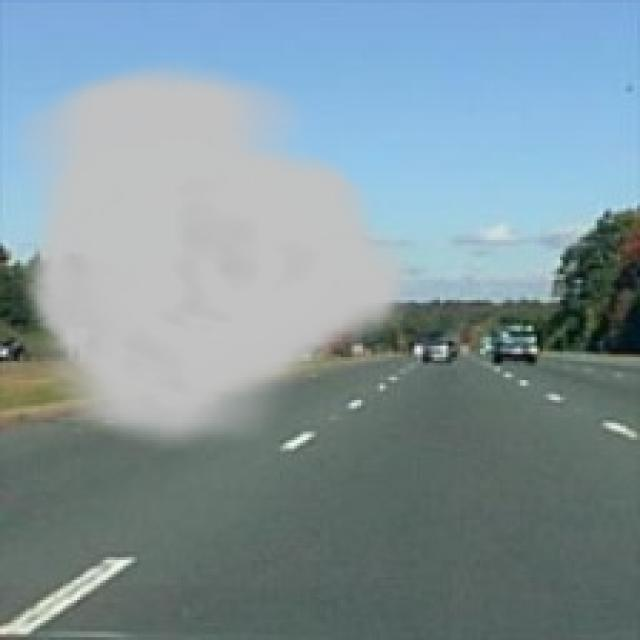smoke: (17, 60, 417, 457)
